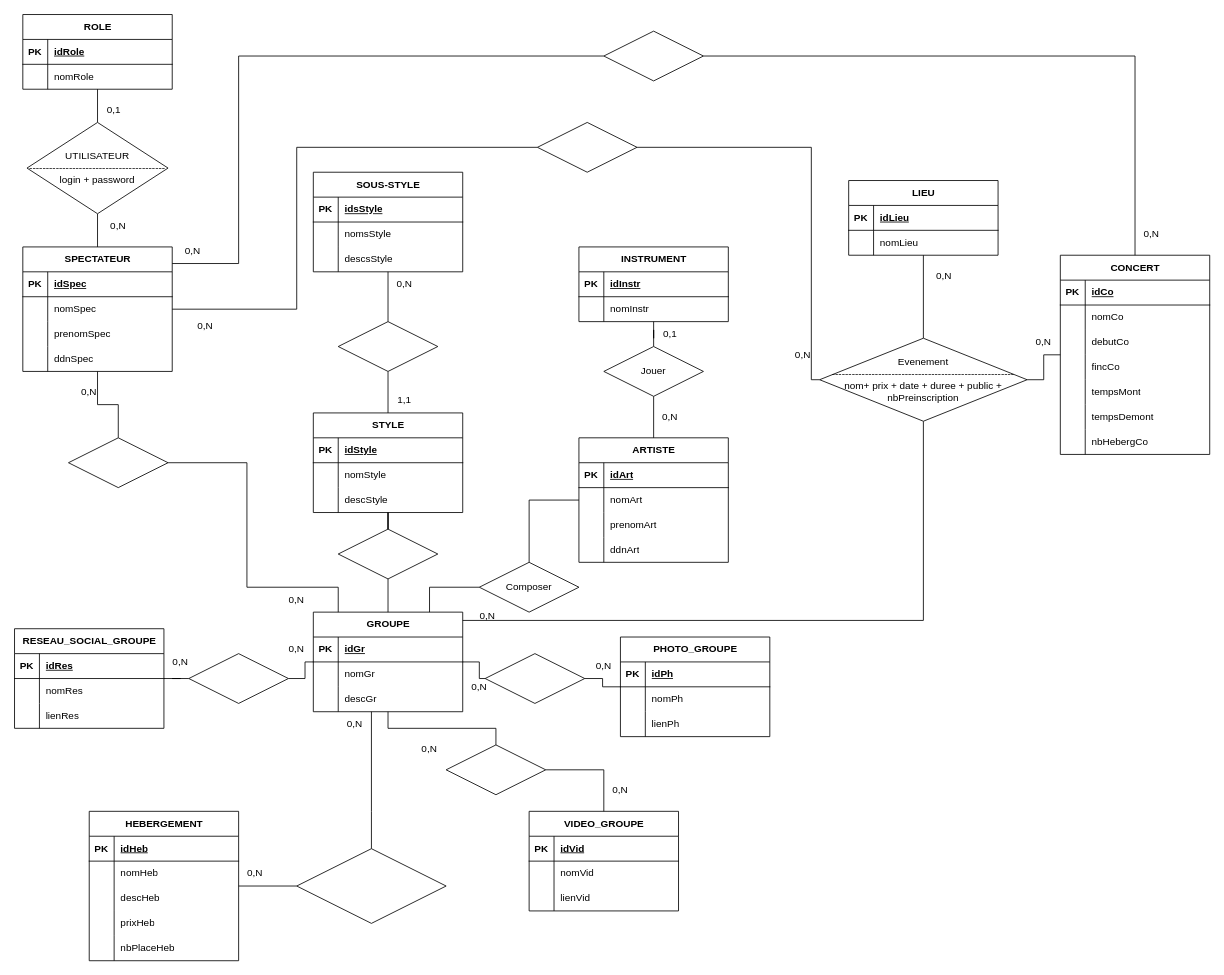
The diagram is 1224 pixels wide and 975 high, and some of its shapes have lost their labels. Each missing label, with the centre of its shape:
Appartenir: (387,346)
Favoris: (118,462)
OCCUPER -------------------------------------------- nbPlace + date: (371,885)
Photo: (534,678)
Preinscription: (587,147)
Reseau: (238,678)
Reservation: (653,55)
StyleGroupe: (387,553)
Video: (495,769)
